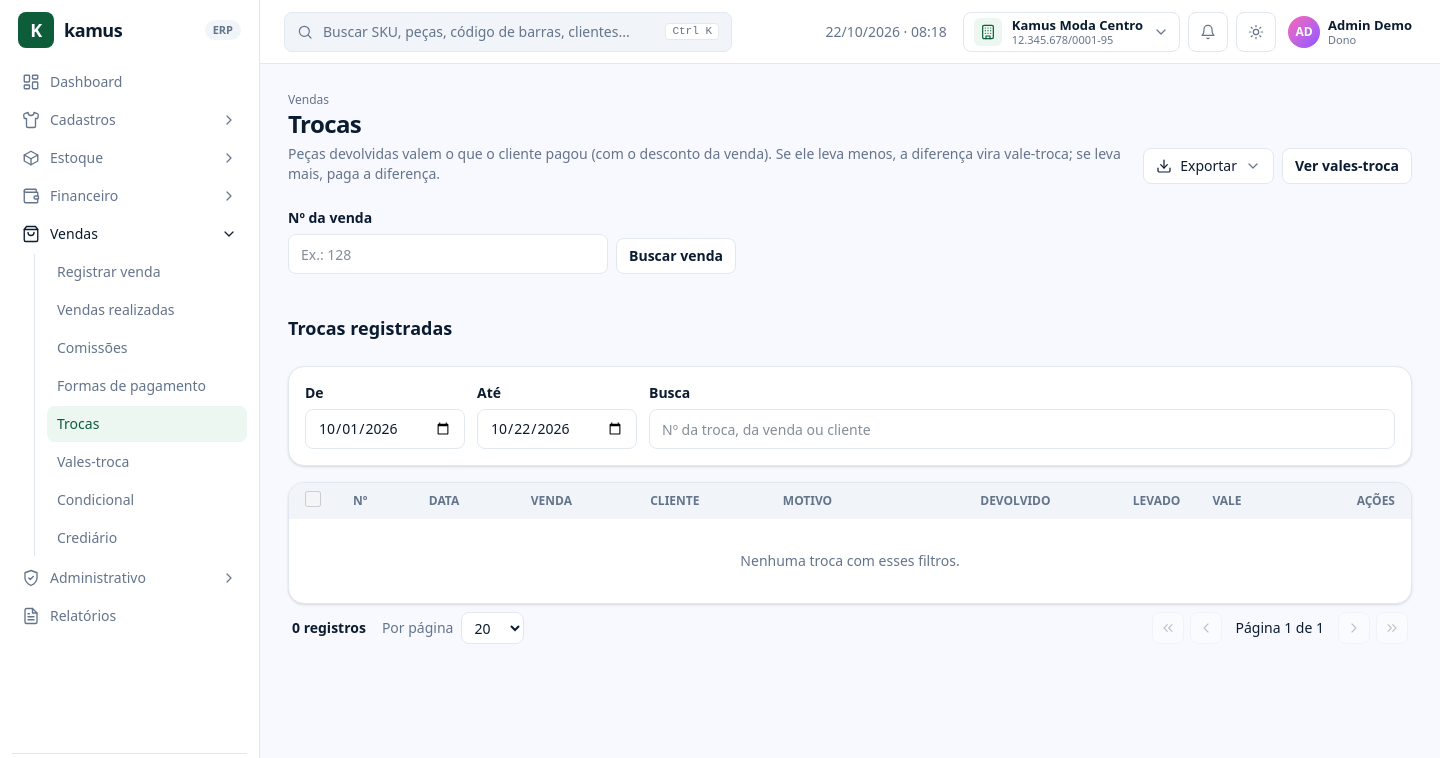
Test case: Vendas → Trocas › leva uma peça mais cara e paga a diferença
In the field labelled "Nº da venda": (448, 254) [288,234,608,274], type "7"
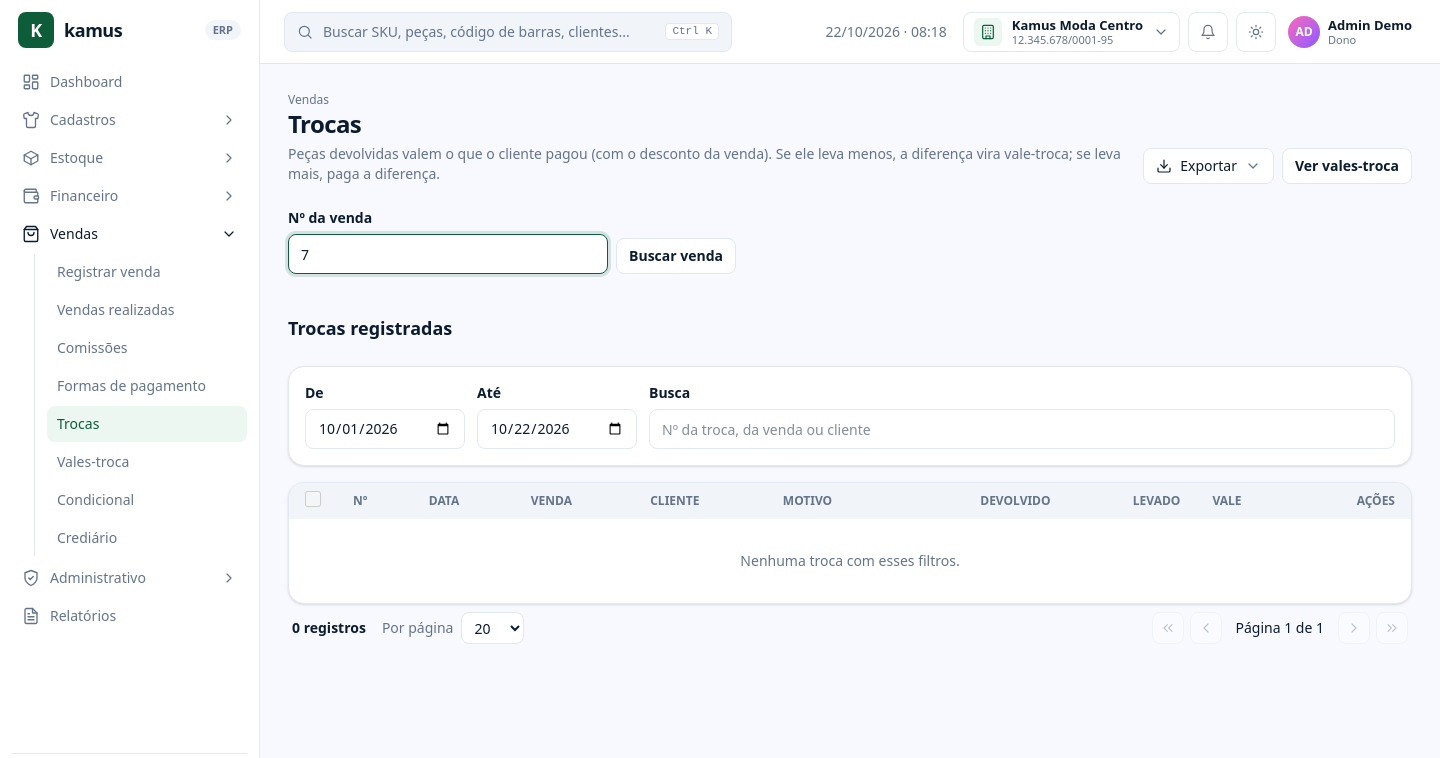
Click the button "Buscar venda": (676, 256) [616,238,736,274]
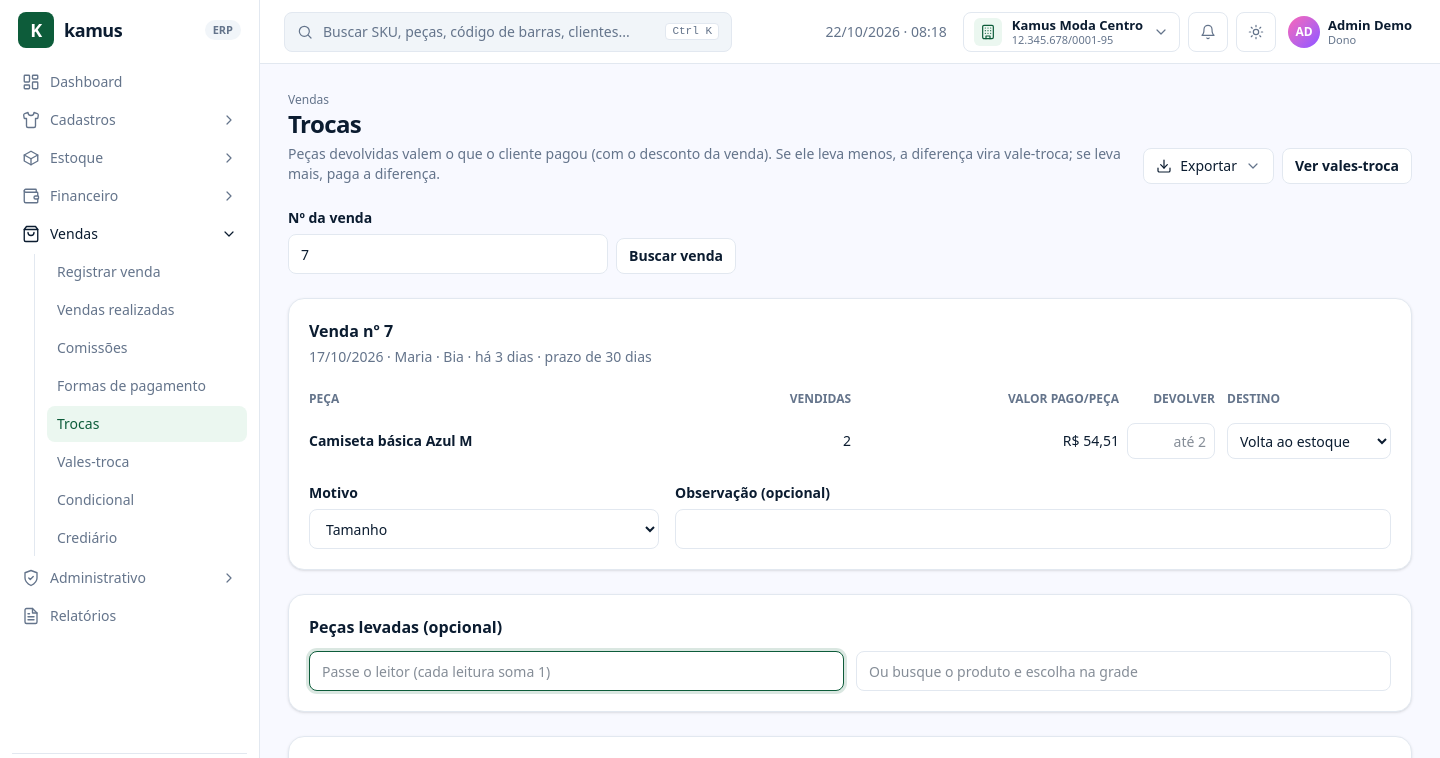
In the field named "Devolver Camiseta básica Azul M": (1171, 441) [1127,423,1215,459], type "1"
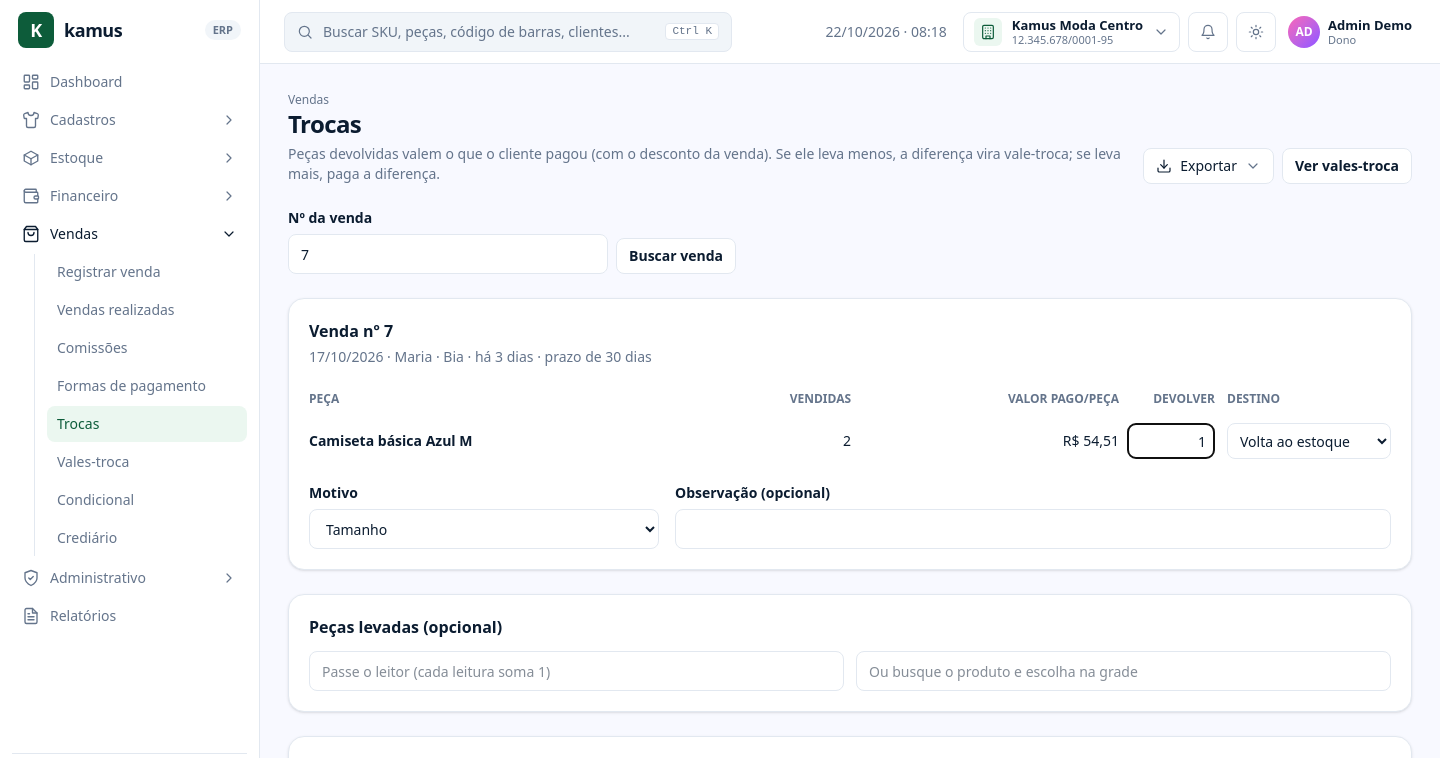
In the field named "Código de barras": (576, 671) [309,651,844,691], type "789"
Then press Enter
(page scrolled)
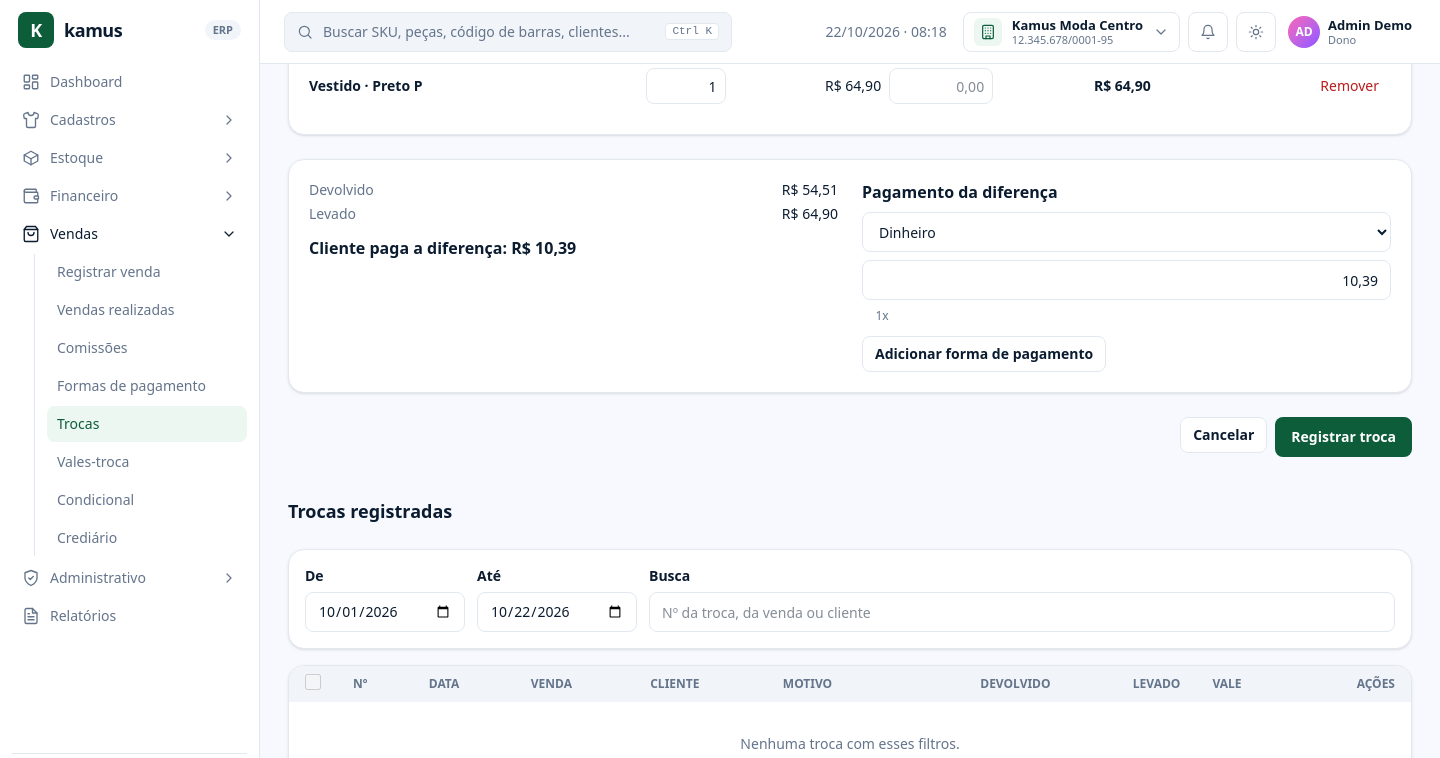
Expected: the text "Cliente paga a diferença: R$ 10,39" is shown, [309,237,576,259]
Expected: the field named "Valor do pagamento 1" holds "10,39", [862,260,1391,300]
Click the button "Registrar troca": (1344, 437) [1275,417,1412,457]
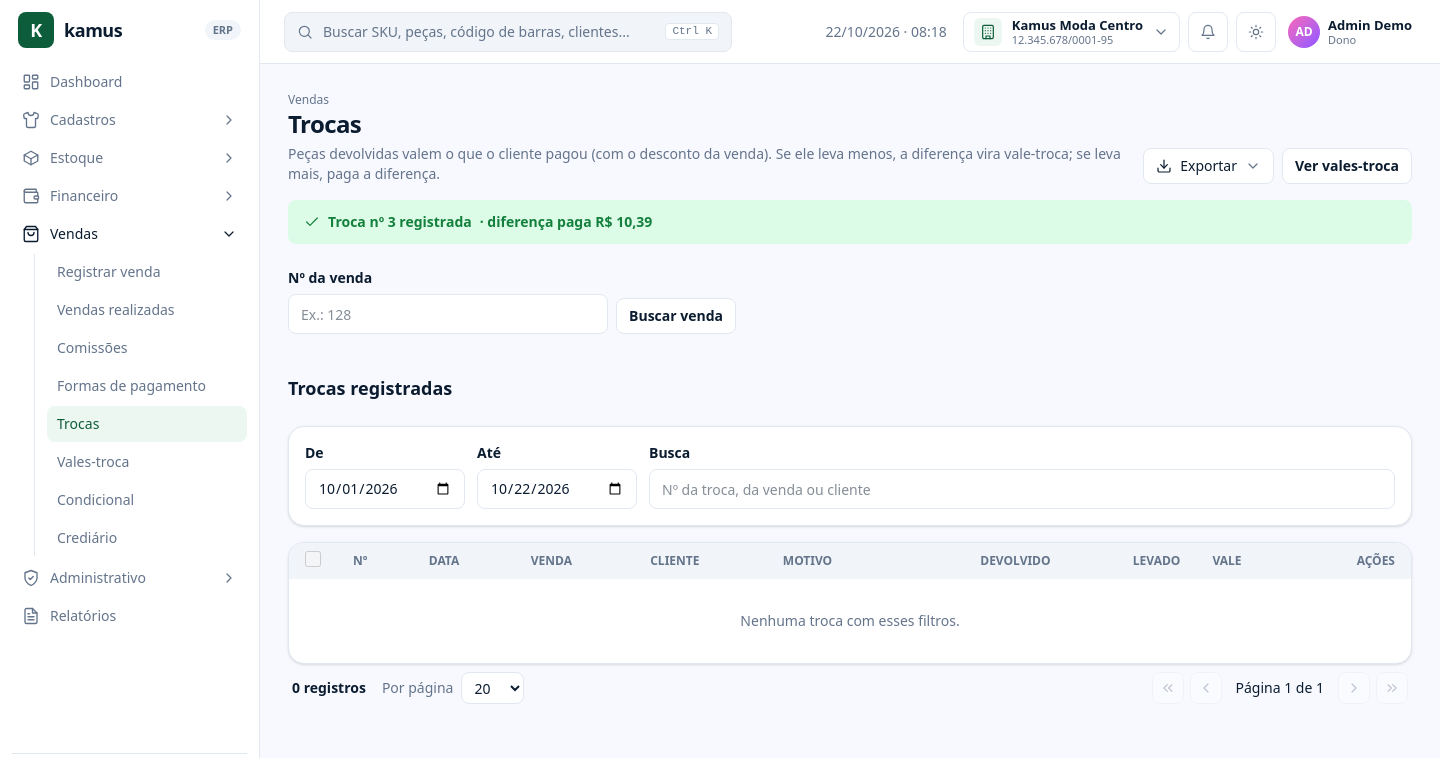
Expected: the text "Troca nº 3 registrada · diferença paga R$ 10,39" is shown, [304,212,652,231]
